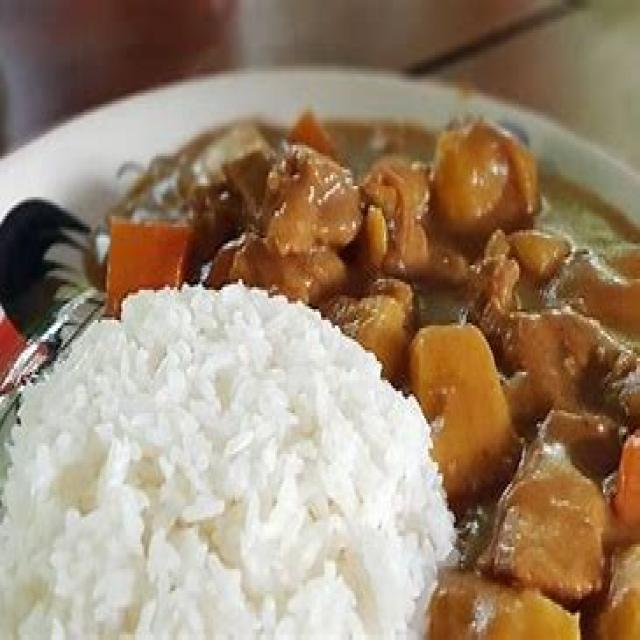carb: (1, 286, 459, 640)
meat: (471, 259, 640, 424), (209, 144, 363, 306), (495, 449, 603, 596), (363, 161, 476, 279), (543, 414, 622, 478)
vegetable: (410, 326, 522, 516), (429, 123, 540, 234), (431, 572, 579, 639), (110, 222, 194, 318), (552, 248, 640, 333), (327, 297, 410, 375), (507, 230, 572, 274)
